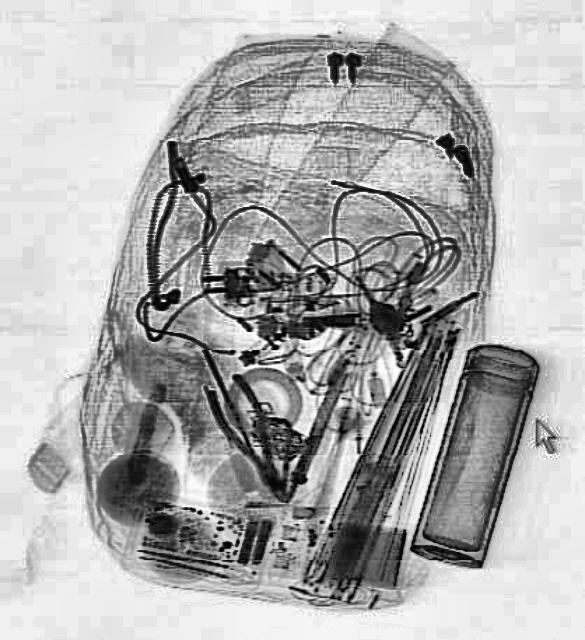Pliers: (198, 368, 304, 512)
